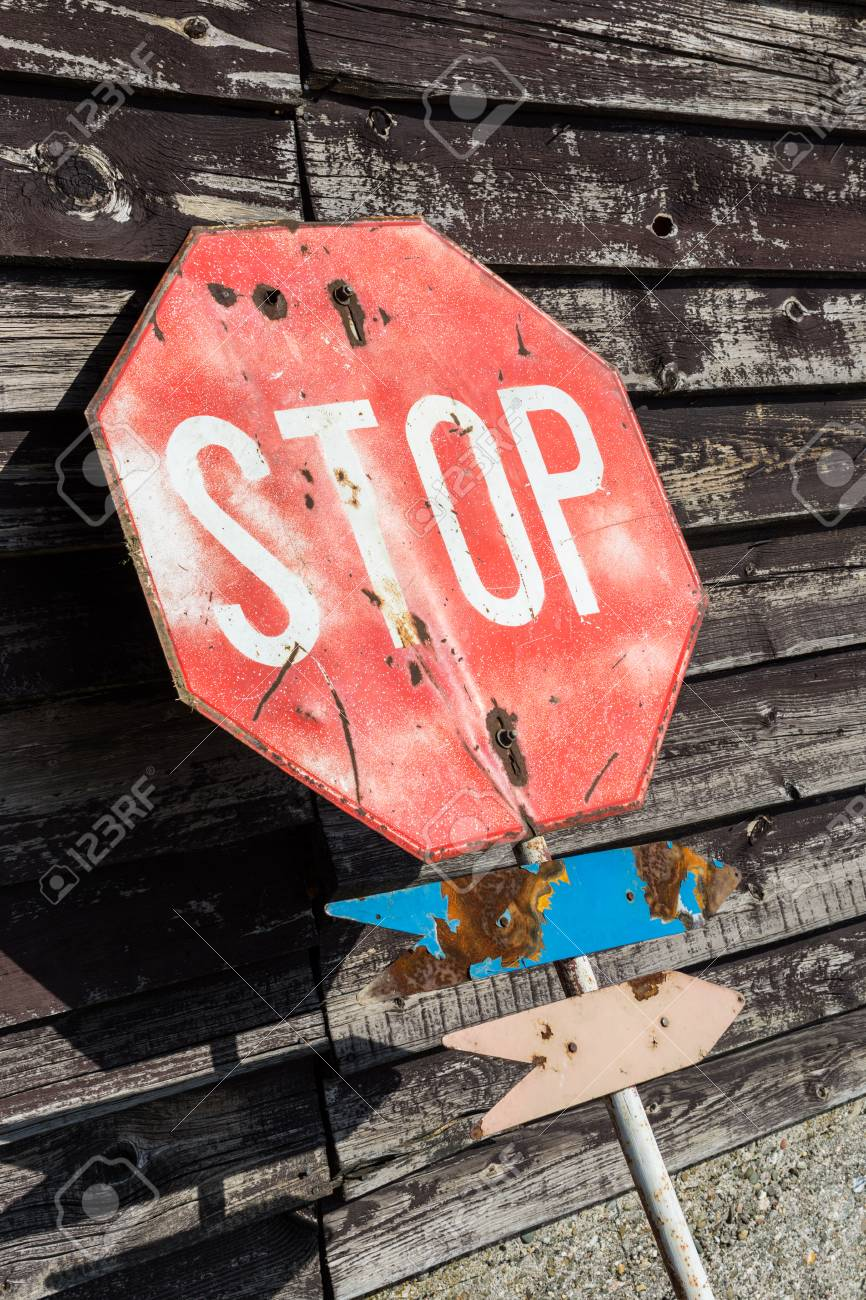stop: (74, 204, 727, 857)
